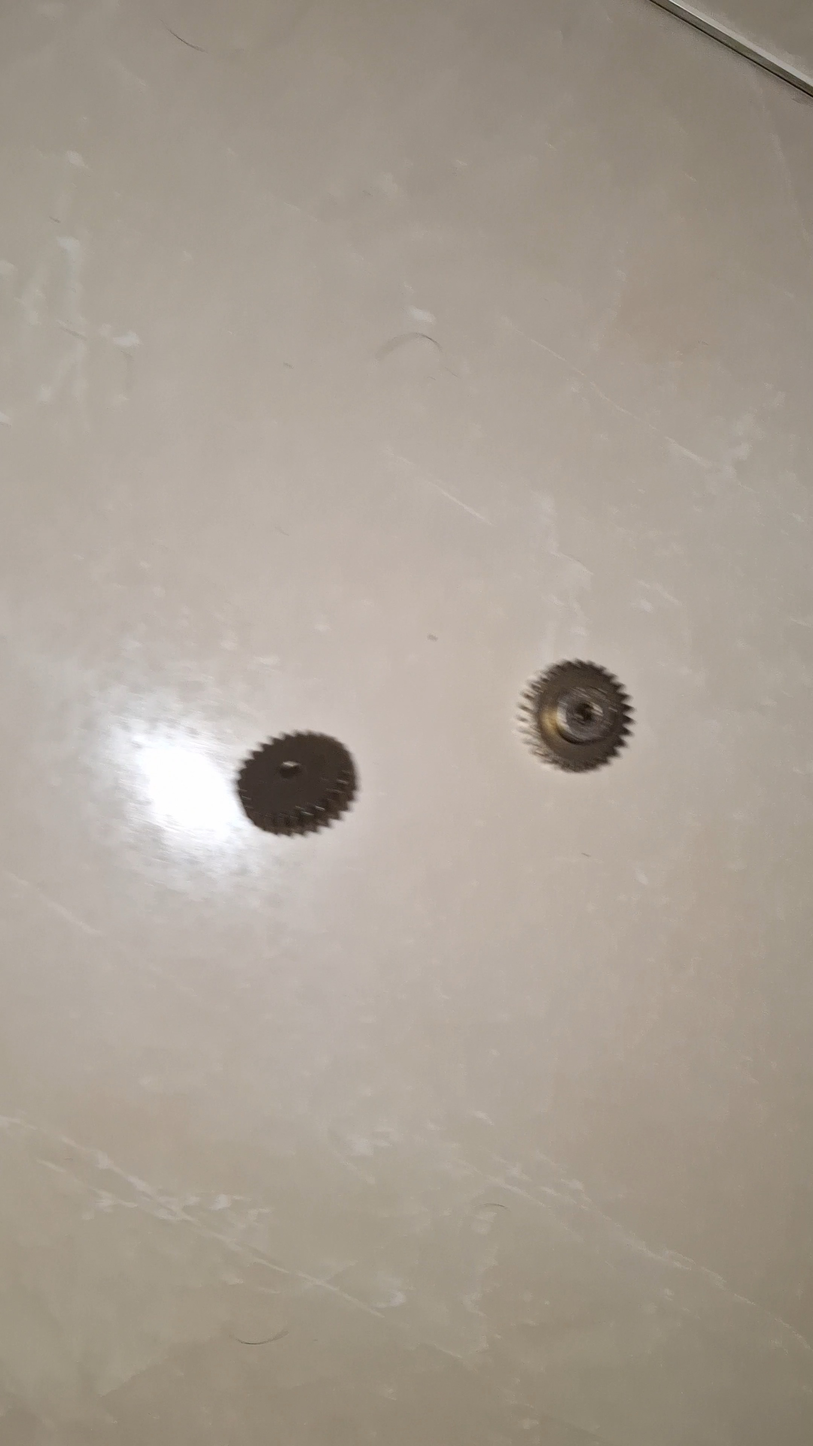spur gear: (520, 660, 632, 771), (238, 733, 356, 835)
